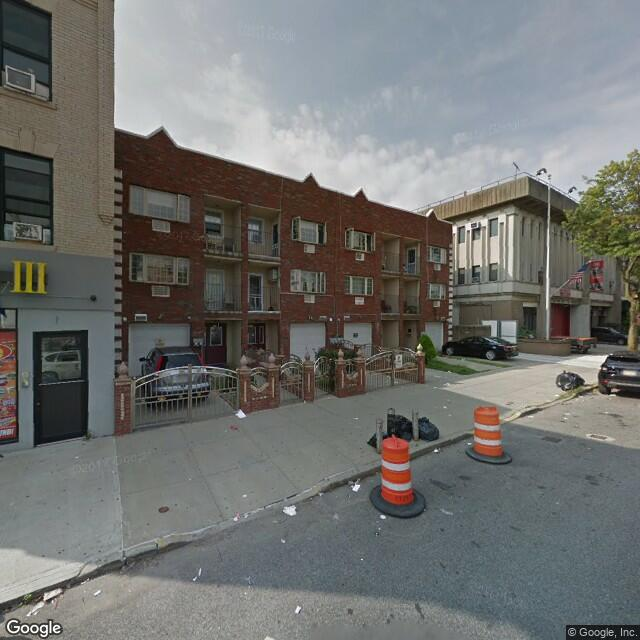litter: (22, 603, 36, 617), (42, 590, 61, 600), (282, 505, 298, 516), (235, 409, 246, 420), (433, 447, 441, 456), (379, 512, 387, 518), (294, 607, 302, 613), (353, 484, 361, 489), (317, 491, 325, 496), (96, 587, 100, 595), (442, 404, 448, 409), (352, 415, 356, 421), (195, 567, 199, 573), (528, 414, 534, 416), (234, 517, 237, 521), (446, 370, 451, 372), (241, 494, 246, 496), (609, 392, 616, 393), (468, 443, 469, 444)
